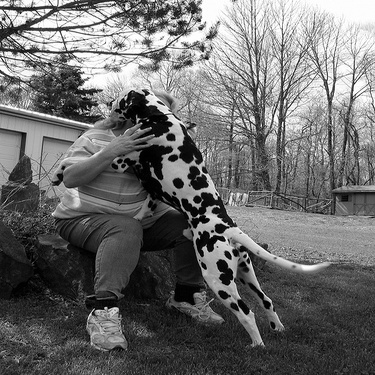dog: (38, 77, 342, 356)
